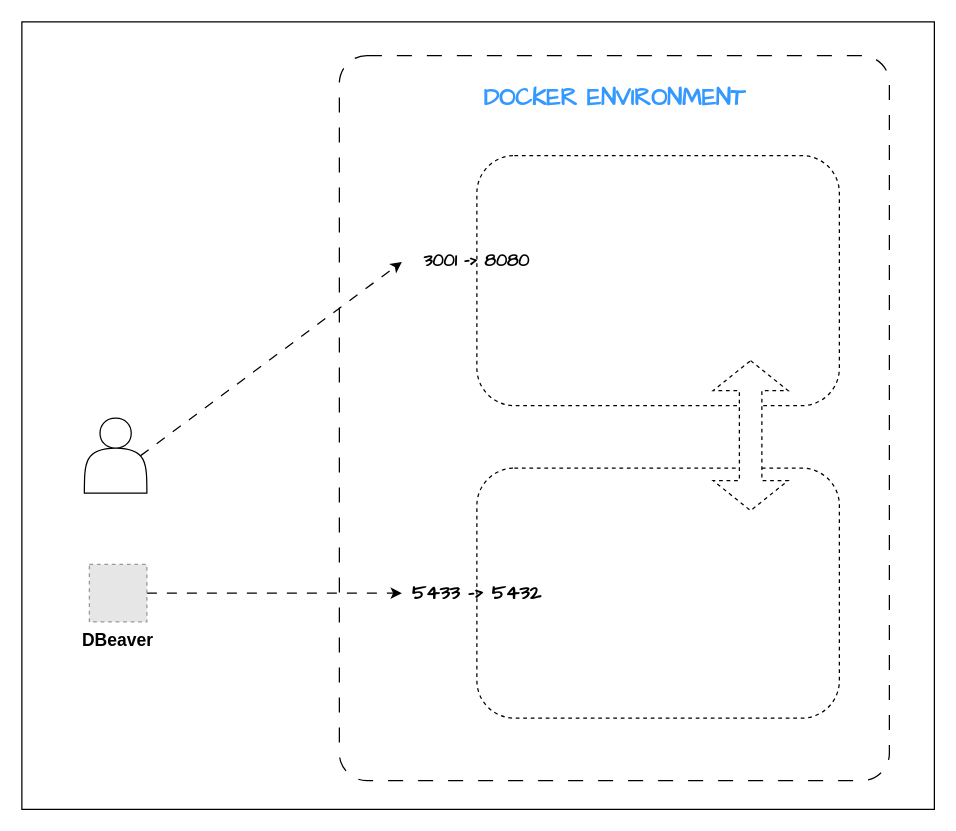
The diagram is 956 pixels wide and 831 high, and some of its shapes have lost their labels. Grey dashed boxes stand in for pictures. The shapes that lost their labels are listed below. From the top down, each one's box as (x1, y1, x2, y2) in pixels, then its label:
(83, 417, 147, 493): USER
(712, 359, 788, 511): docker network interface
